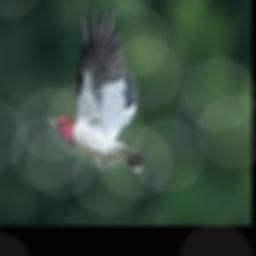Woodpecker: (45, 7, 149, 173)
